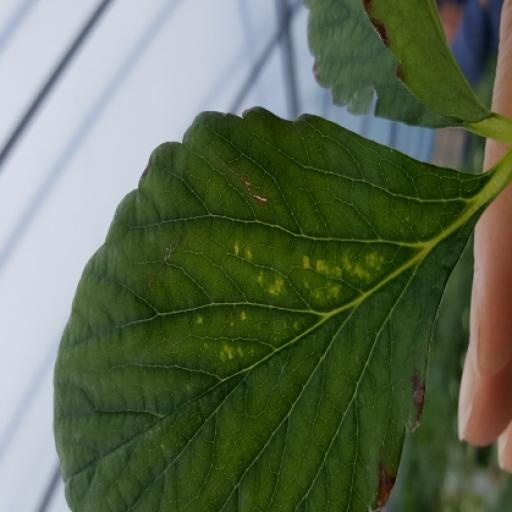Angular Leafspot: (188, 139, 400, 277)
